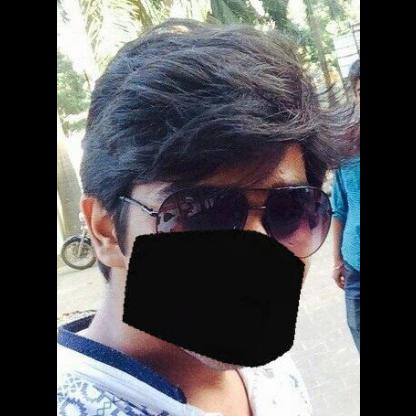Fabric/Cloth Mask: (92, 106, 304, 360)
